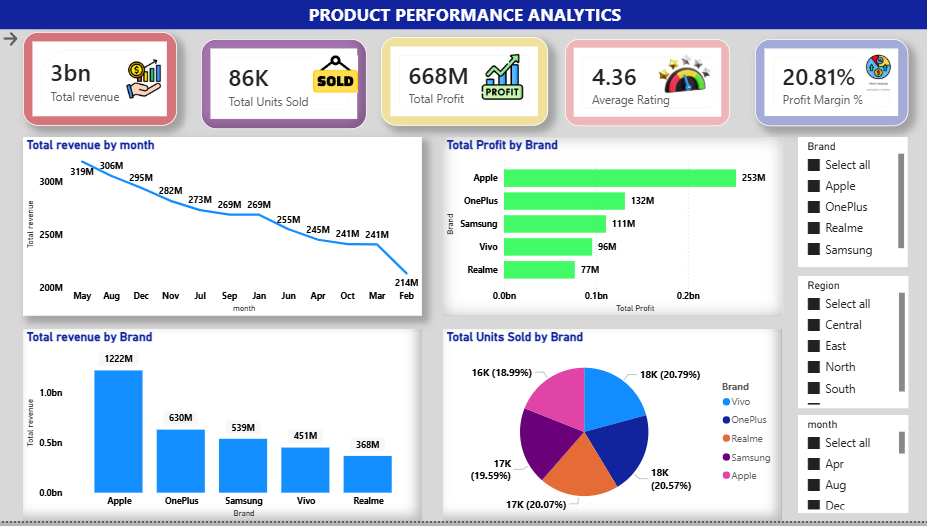

The page's visual inventory and layout, read from the dashboard file:
{"tool":"powerbi","page":{"name":"Executive overview","canvas":[1280,720],"ordinal":0},"visuals":[{"type":"cardVisual","fields":{"Data":["date-sales data.Total revenue"]},"box":[31.7,46.8,212,129.4],"z":0},{"type":"cardVisual","fields":{"Data":["date-sales data.Total Profit"]},"box":[524.4,53.7,229.8,122.5],"z":1000},{"type":"cardVisual","fields":{"Data":["date-sales data.Total Units Sold"]},"box":[276.6,56.4,228.5,123.9],"z":2000},{"type":"cardVisual","fields":{"Data":["date-sales data.Average Rating"]},"box":[777.6,56.4,227.1,119.7],"z":3000},{"type":"cardVisual","fields":{"Data":["date-sales data.Profit Margin %"]},"box":[1039.1,56.4,210.6,119.7],"z":4000},{"type":"clusteredColumnChart","fields":{"Y":["date-sales data.Total revenue"],"Category":["Mobile_Sales_500.Brand"]},"box":[31.7,455.6,549.2,264.3],"z":5000},{"type":"clusteredBarChart","fields":{"Category":["Mobile_Sales_500.Brand"],"Y":["date-sales data.Total Profit"]},"box":[609.7,191.3,466.6,246.4],"z":6000},{"type":"lineChart","fields":{"Y":["date-sales data.Total revenue"],"Category":["date-sales data.month"]},"box":[31.7,191.3,549.2,246.4],"z":7000},{"type":"pieChart","fields":{"Category":["Mobile_Sales_500.Brand"],"Y":["date-sales data.Total Units Sold"]},"box":[610,455.7,465.7,264.3],"z":8000},{"type":"slicer","fields":{"Values":["Mobile_Sales_500.Brand"]},"box":[1098.3,191.3,151.4,178.9],"z":9000},{"type":"slicer","fields":{"Values":["Mobile_Sales_500.Region"]},"box":[1098.3,382.3,151.9,182],"z":10000},{"type":"slicer","fields":{"Values":["date-sales data.month"]},"box":[1098.3,573.4,151.9,134.8],"z":11000},{"type":"actionButton","box":[0,42.7,31.7,27.5],"z":12000},{"type":"textbox","box":[0,0,1280,42.7],"z":13000},{"type":"image","box":[634.5,77.1,114.2,63.3],"z":14000},{"type":"image","box":[430.8,77.1,61.9,55.1],"z":15000},{"type":"image","box":[170.7,78.5,53.7,66.1],"z":16000},{"type":"image","box":[891.9,67.4,100.5,72.9],"z":17000},{"type":"image","box":[1174,70.2,70.2,57.8],"z":18000}]}

Visuals, with their boxes in screenshot pixels (x1, y1, x2, y2), scaled from the page's 1280x720 canvas onto the 927x526 screenshot:
cardVisual - date-sales data.Total revenue: 23:34:176:129
cardVisual - date-sales data.Total Profit: 380:39:546:129
cardVisual - date-sales data.Total Units Sold: 200:41:366:132
cardVisual - date-sales data.Average Rating: 563:41:728:129
cardVisual - date-sales data.Profit Margin %: 753:41:905:129
clusteredColumnChart - date-sales data.Total revenue x Mobile_Sales_500.Brand: 23:333:421:525
clusteredBarChart - Mobile_Sales_500.Brand x date-sales data.Total Profit: 442:140:779:320
lineChart - date-sales data.Total revenue x date-sales data.month: 23:140:421:320
pieChart - Mobile_Sales_500.Brand x date-sales data.Total Units Sold: 442:333:779:525
slicer - Mobile_Sales_500.Brand: 795:140:905:270
slicer - Mobile_Sales_500.Region: 795:279:905:412
slicer - date-sales data.month: 795:419:905:517
actionButton: 0:31:23:51
textbox: 0:0:926:31
image: 460:56:542:103
image: 312:56:357:97
image: 124:57:163:106
image: 646:49:719:102
image: 850:51:901:94
